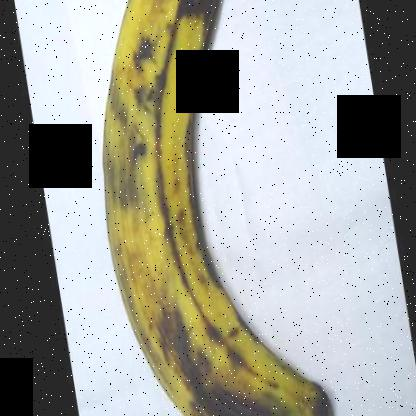overripe: (78, 1, 344, 416)
